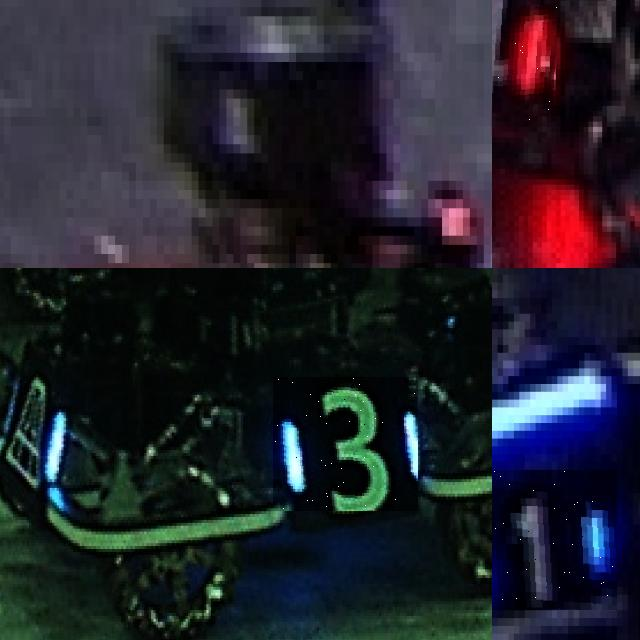B1: (492, 469, 616, 610)
B3: (273, 378, 418, 512)
R4: (492, 0, 560, 127)
